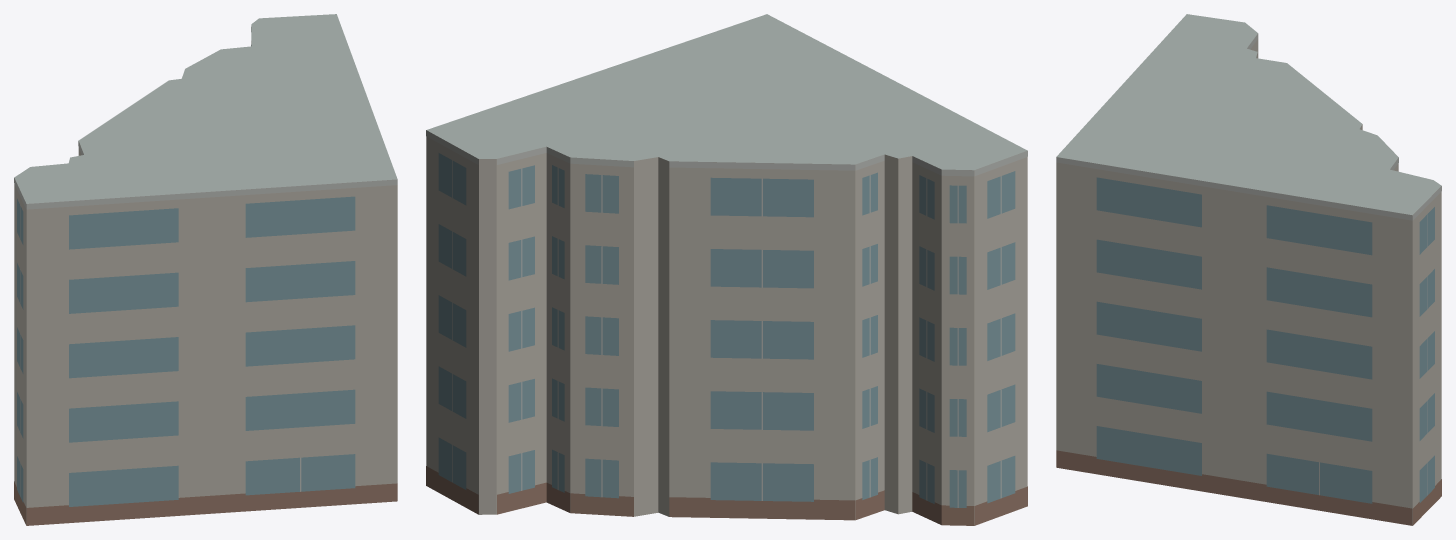
File: survey-upis-32981149.glb
The picture shows the model from 3 angles, left to right: view 1: azimuth 30°, elevation 25°; view 2: azimuth 150°, elevation 25°; view 3: azimuth 270°, elevation 25°; orthographic projection. The views are drawn at different scales.
Parts seen in each view (by area): view 1: survey-upis-32981149.tmp; view 2: survey-upis-32981149.tmp; view 3: survey-upis-32981149.tmp.
Boxes of the visible parts, x1,y1,x2,y2 form: survey-upis-32981149.tmp: [14, 14, 397, 525]; survey-upis-32981149.tmp: [426, 14, 1027, 525]; survey-upis-32981149.tmp: [1056, 14, 1441, 525].
Bounding box in the file's own units: 19.32 × 13.9 × 15.64.
